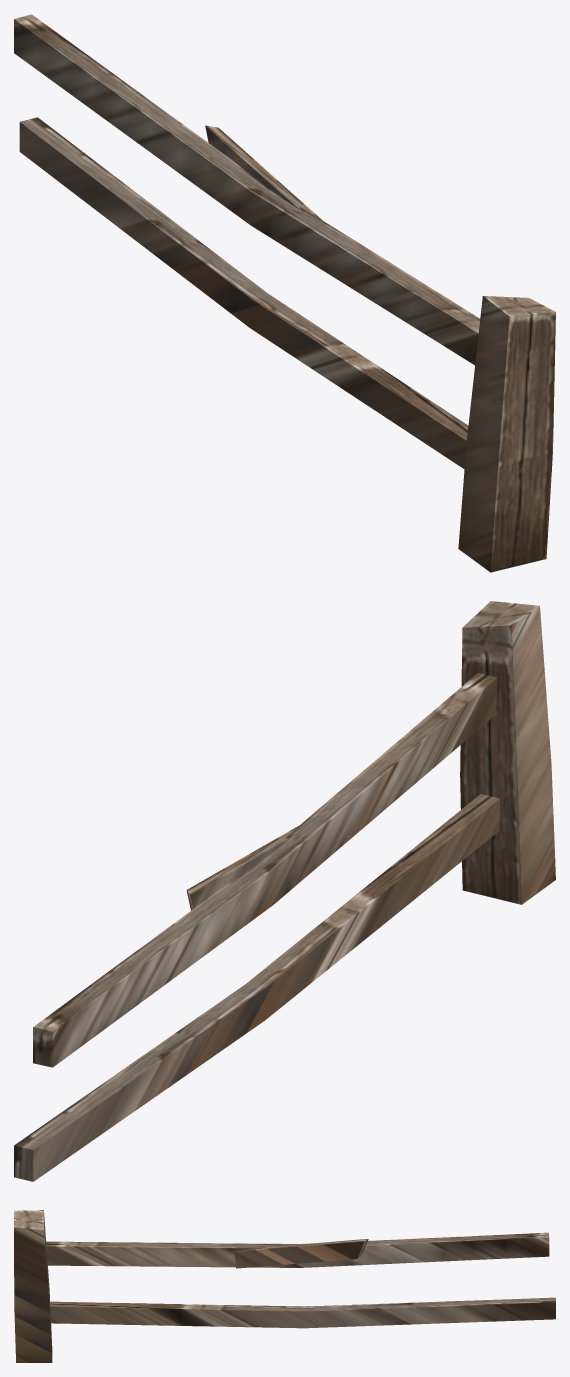
File: start_fence_01.glb
The picture shows the model from 3 angles, top to bottom: view 1: azimuth 30°, elevation 25°; view 2: azimuth 150°, elevation 25°; view 3: azimuth 270°, elevation 25°; orthographic projection. The views are drawn at different scales.
Parts seen in each view (by area): view 1: start_fence_01_game; view 2: start_fence_01_game; view 3: start_fence_01_game.
Part boxes in pixels (x1,y1,x2,y2): start_fence_01_game: (14, 14, 555, 572); start_fence_01_game: (14, 601, 555, 1181); start_fence_01_game: (14, 1210, 555, 1362).
Size of the model in its own units: 0.3347 by 1.27 by 4.38.
1 material, 1 textured.
